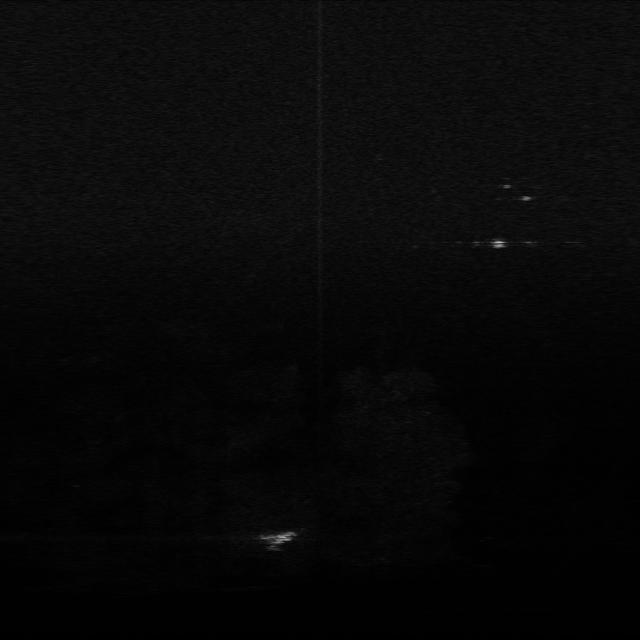rov: (486, 235, 510, 252)
